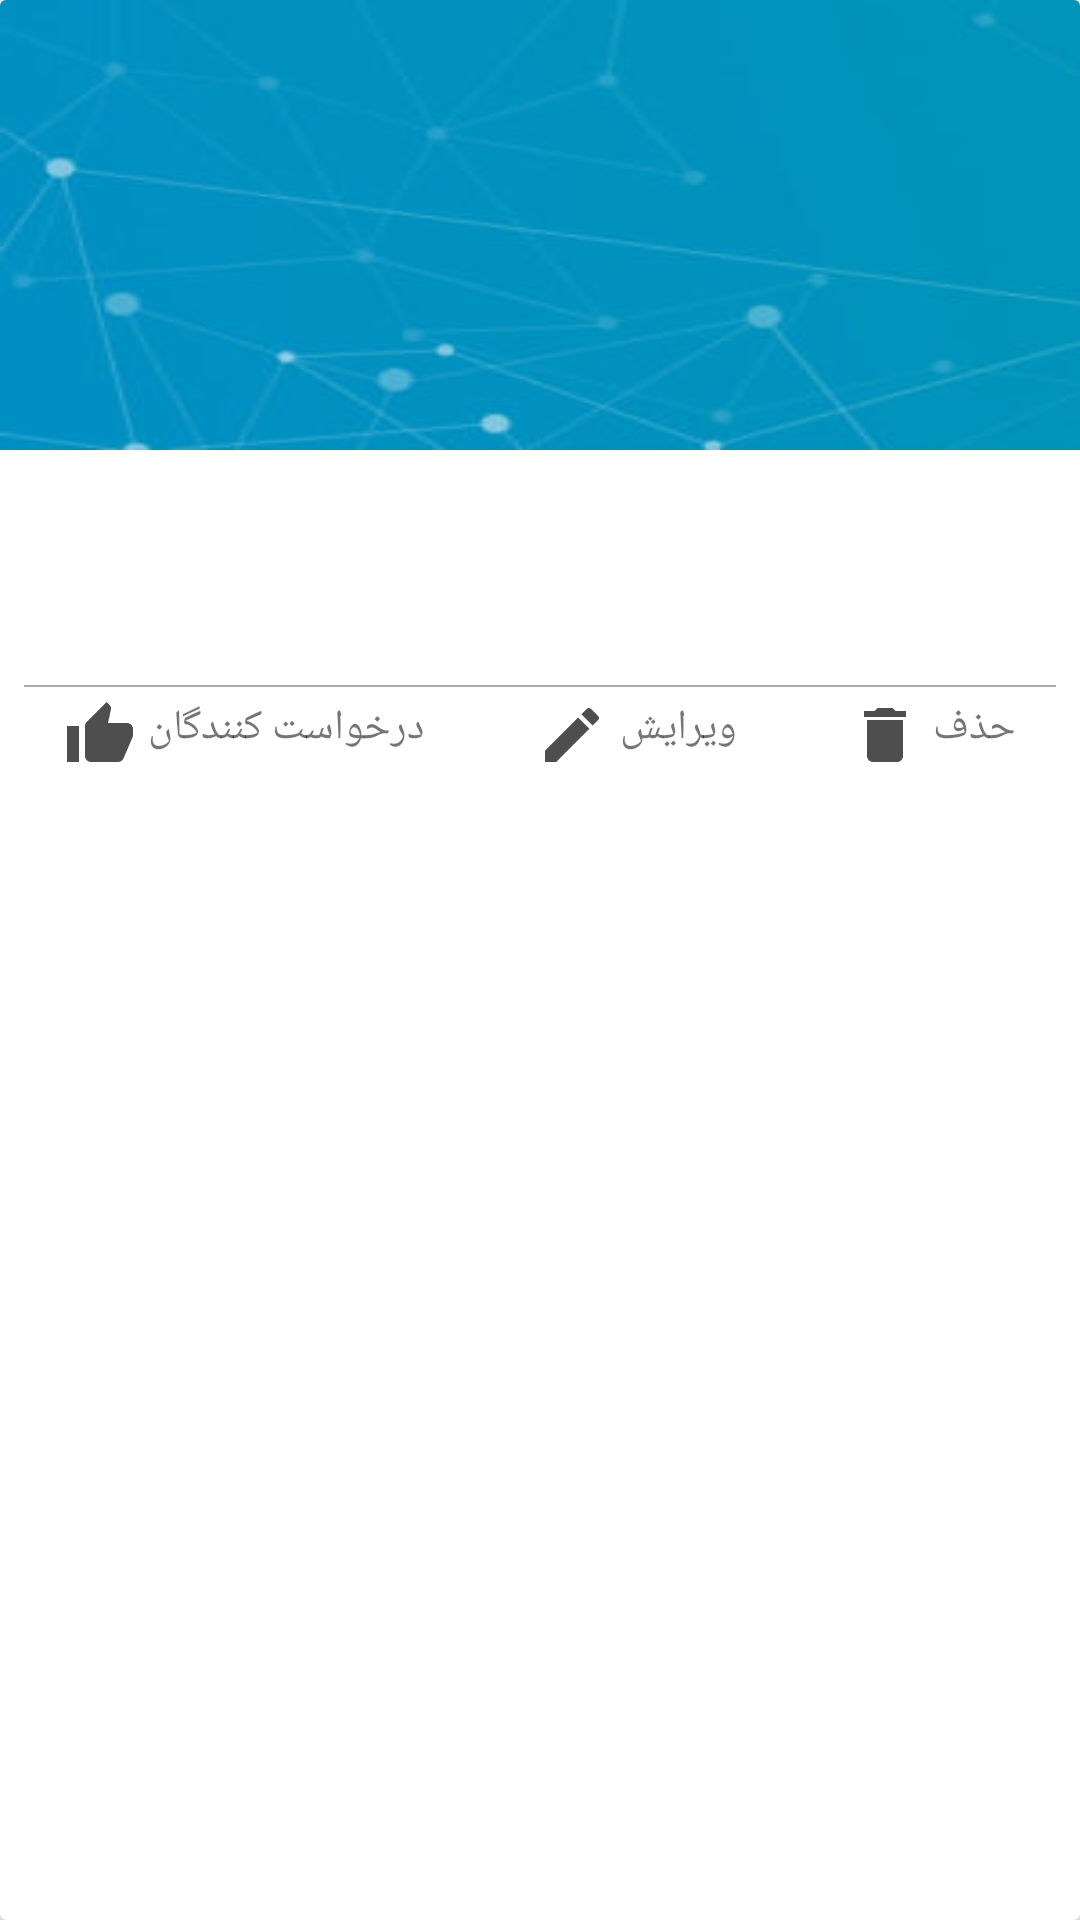

Screen size 1080×1920. Icon name, then its center in pixels as point (x, y):
apply: point (100, 732)
